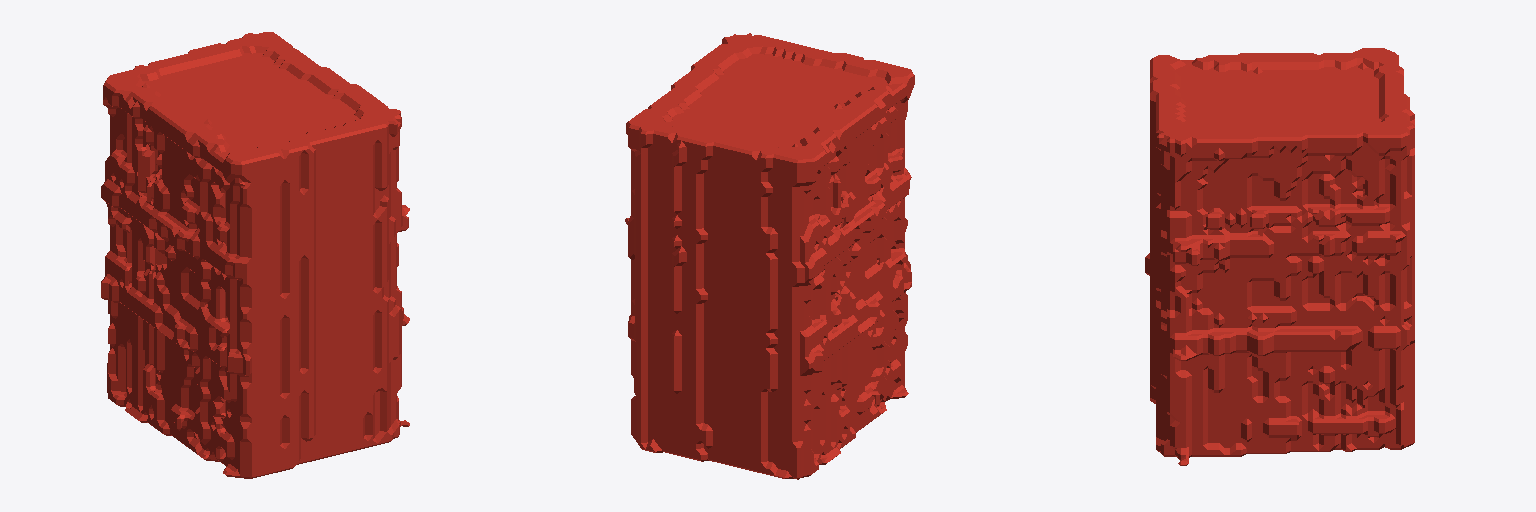
The model's file is gen7_colored.obj.
The picture shows the model from 3 angles: view 1: azimuth 30°, elevation 25°; view 2: azimuth 150°, elevation 25°; view 3: azimuth 270°, elevation 25°; orthographic projection.
Parts seen in each view (by area): view 1: gen7.obj; view 2: gen7.obj; view 3: gen7.obj.
Part boxes in pixels (bbox=[...]): gen7.obj: bbox=[101, 32, 409, 478]; gen7.obj: bbox=[625, 33, 914, 479]; gen7.obj: bbox=[1145, 48, 1414, 465].
Bounding box in the file's own units: 44 × 64 × 49.